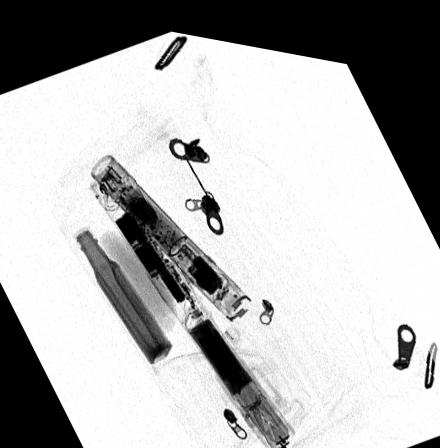Baton: (88, 169, 292, 443), (89, 150, 251, 315)
